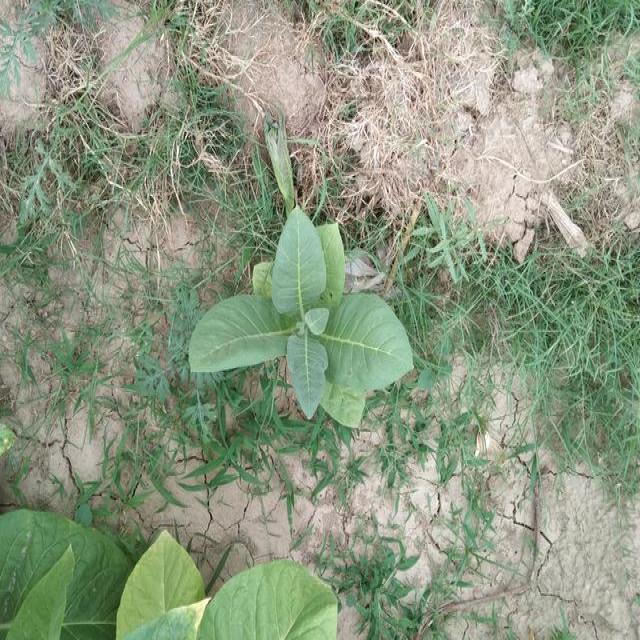crop: (183, 196, 420, 432)
